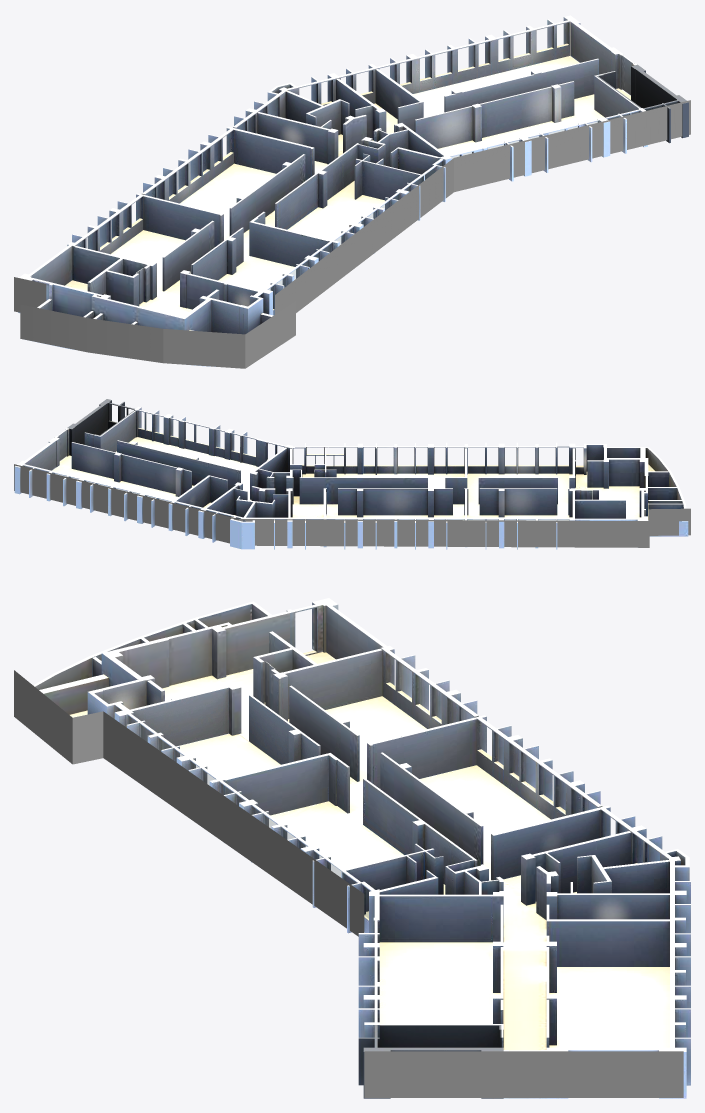
The picture shows the model from 3 angles, top to bottom: view 1: azimuth 30°, elevation 25°; view 2: azimuth 150°, elevation 25°; view 3: azimuth 270°, elevation 25°; orthographic projection. The views are drawn at different scales.
Visible parts, largest first — view 1: hd_2floor_wlm_1, hd_2_zoulang_2, hd_2floor_room03_5, hd_2floor_room02_4, hd_2floor_room010_12, hd_2floor_room06_8, hd_2floor_room07_9, hd_2floor_room09_11, hd_2floor_room011_13, hd_2floor_room04_6, hd_2floor_room08_10, hd_2floor_room05_7 (+2 smaller); view 2: hd_2floor_wlm_1, hd_2_zoulang_2, hd_2floor_room03_5, hd_2floor_room02_4, hd_2floor_room06_8, hd_2floor_room010_12, hd_2floor_room07_9, hd_2floor_room09_11, hd_2floor_room011_13, hd_2floor_room04_6, hd_2floor_room01_3, hd_2floor_room08_10 (+1 smaller); view 3: hd_2_zoulang_2, hd_2floor_wlm_1, hd_2floor_room03_5, hd_2floor_room010_12, hd_2floor_room02_4, hd_2floor_room06_8, hd_2floor_room07_9, hd_2floor_room09_11, hd_2floor_room011_13, hd_2floor_room05_7, hd_2floor_room04_6, hd_2floor_room01_3 (+2 smaller).
Part boxes in pixels (box(x1,y1,x2,y2)): hd_2floor_wlm_1: box(14, 100, 690, 368); hd_2_zoulang_2: box(18, 55, 637, 366); hd_2floor_room03_5: box(377, 15, 623, 117); hd_2floor_room02_4: box(405, 74, 647, 181); hd_2floor_room010_12: box(252, 143, 445, 253); hd_2floor_room06_8: box(137, 127, 313, 241); hd_2floor_room07_9: box(67, 194, 221, 299); hd_2floor_room09_11: box(188, 217, 332, 315); hd_2floor_room011_13: box(245, 76, 372, 149); hd_2floor_room04_6: box(327, 64, 420, 133); hd_2floor_room08_10: box(199, 283, 263, 334); hd_2floor_room05_7: box(228, 112, 328, 174); hd_2floor_wlm_1: box(14, 464, 690, 547); hd_2_zoulang_2: box(57, 428, 688, 536); hd_2floor_room03_5: box(14, 436, 209, 527); hd_2floor_room02_4: box(94, 406, 285, 498); hd_2floor_room06_8: box(325, 488, 466, 549); hd_2floor_room010_12: box(291, 442, 467, 488); hd_2floor_room07_9: box(466, 488, 575, 549); hd_2floor_room09_11: box(457, 442, 575, 504); hd_2floor_room011_13: box(203, 488, 292, 549); hd_2floor_room04_6: box(168, 476, 242, 538); hd_2floor_room01_3: box(67, 399, 134, 455); hd_2floor_room08_10: box(574, 443, 608, 488); hd_2_zoulang_2: box(33, 598, 571, 1098); hd_2floor_wlm_1: box(14, 670, 683, 1097); hd_2floor_room03_5: box(540, 920, 690, 1098); hd_2floor_room010_12: box(209, 754, 476, 933); hd_2floor_room02_4: box(358, 895, 503, 1047); hd_2floor_room06_8: box(369, 716, 608, 880); hd_2floor_room07_9: box(273, 645, 485, 784); hd_2floor_room09_11: box(114, 687, 338, 785); hd_2floor_room011_13: box(546, 825, 690, 903); hd_2floor_room05_7: box(492, 806, 635, 892); hd_2floor_room04_6: box(546, 890, 690, 933); hd_2floor_room01_3: box(358, 1025, 503, 1098).
Size of the model in its own units: 7.78 by 0.3794 by 4.71.
Materials: 15 (13 with a texture image).
